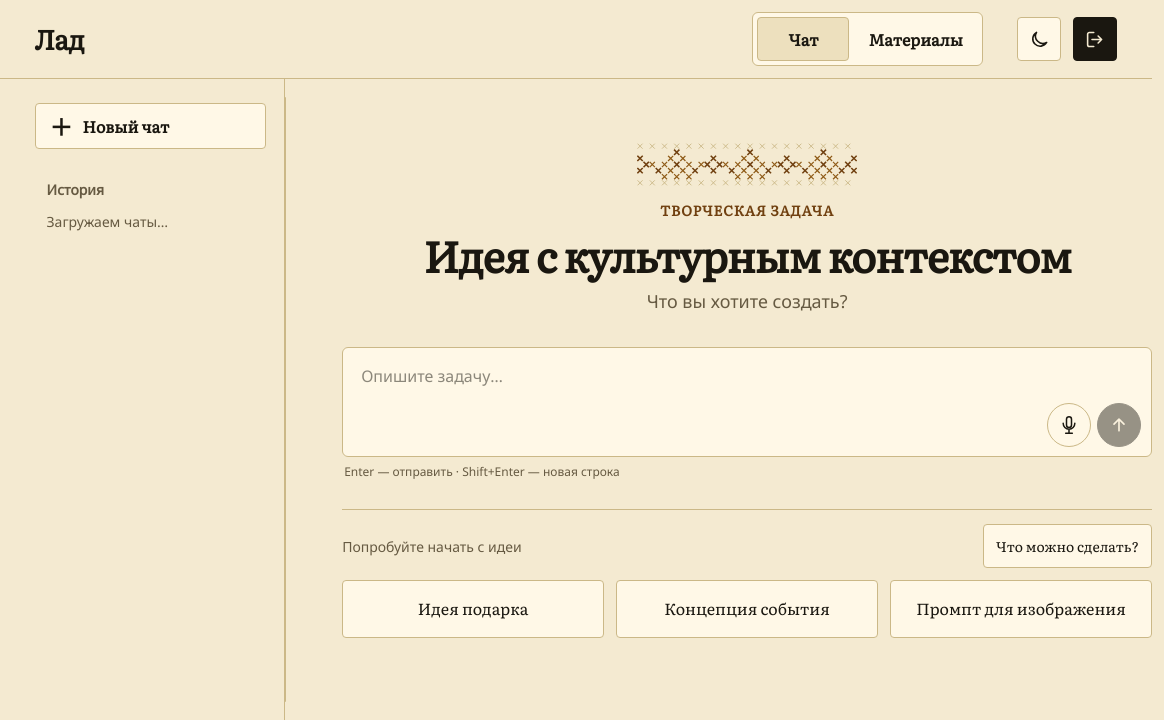
a failed API send keeps the editable task
expect the heading "Идея с культурным контекстом" is shown: met, box x1=424 y1=222 x2=1071 y2=286
In the text box named "Ваша задача": (747, 402) x1=343 y1=348 x2=1151 y2=456, type "Моя задача"
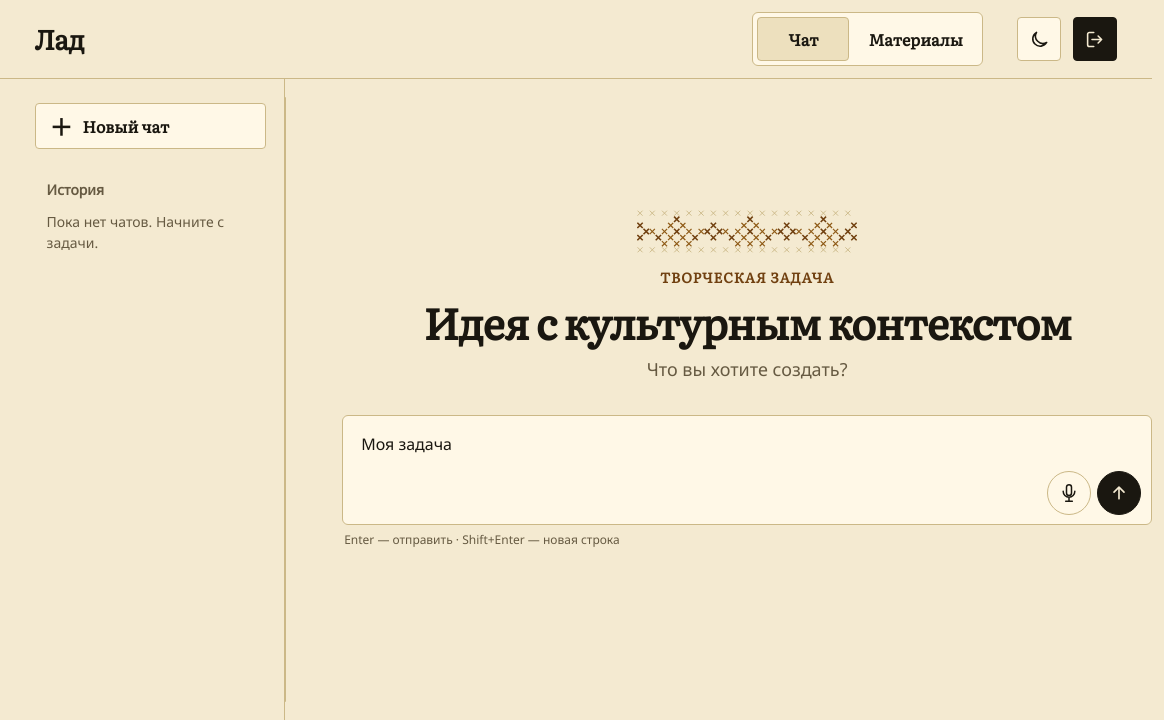
Click the button named "Отправить": (1119, 493) x1=1097 y1=471 x2=1141 y2=515
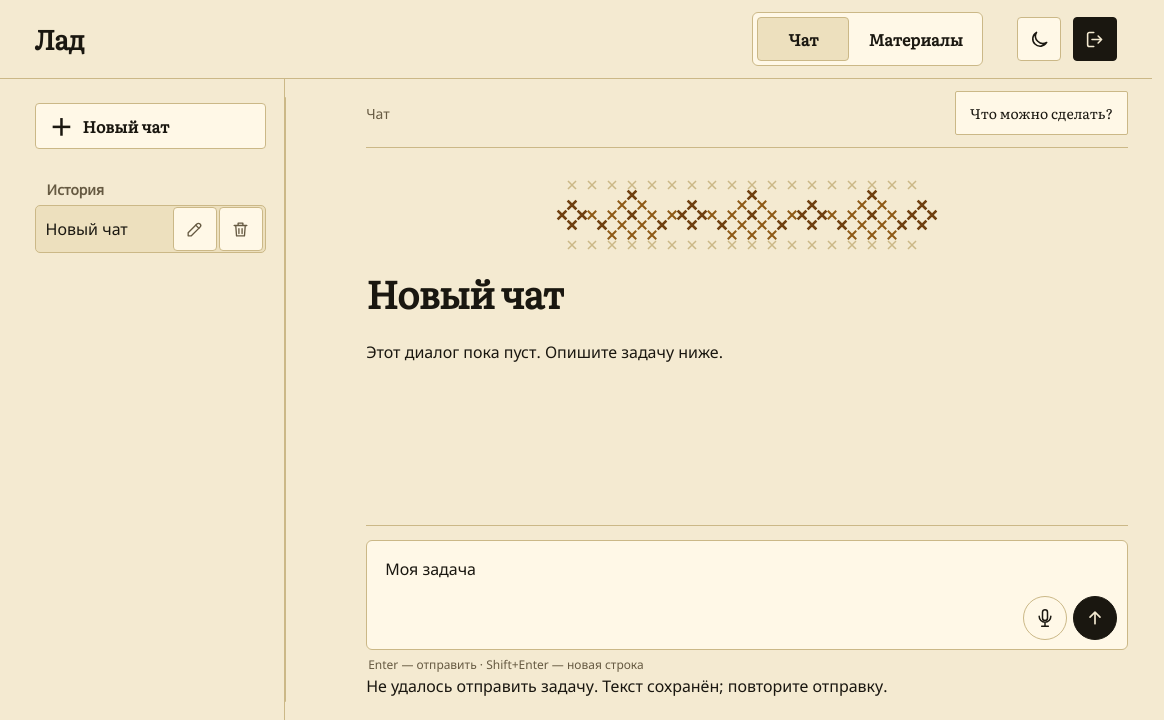
expect the text box named "Ваша задача" holds "Моя задача": met, box x1=367 y1=541 x2=1127 y2=649
expect the message shows "Текст сохранён": met, box x1=366 y1=675 x2=888 y2=697
